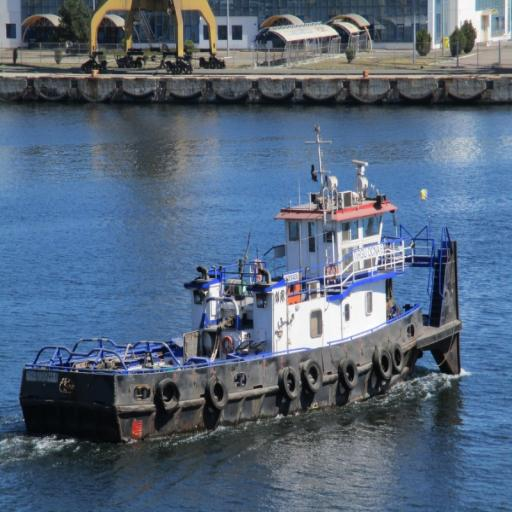tugboat: (19, 124, 467, 456)
